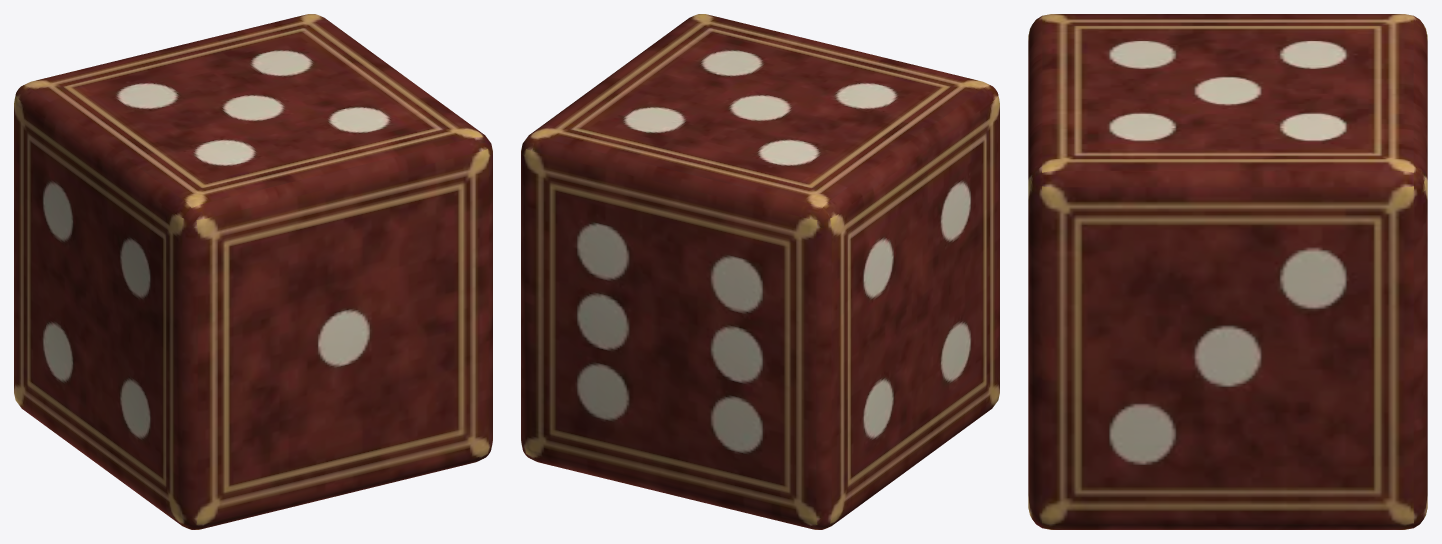
The model's file is redguard-d6.glb.
The picture shows the model from 3 angles, left to right: view 1: azimuth 30°, elevation 25°; view 2: azimuth 150°, elevation 25°; view 3: azimuth 270°, elevation 25°; orthographic projection. The views are drawn at different scales.
Visible parts, largest first — view 1: redguard_d6; view 2: redguard_d6; view 3: redguard_d6.
Part boxes in pixels (box(x1,y1,x2,y2)): redguard_d6: box(14, 14, 492, 529); redguard_d6: box(521, 14, 999, 529); redguard_d6: box(1028, 14, 1427, 529).
Bounding box in the file's own units: 1.4 × 1.4 × 1.4.
1 material, 1 textured.
